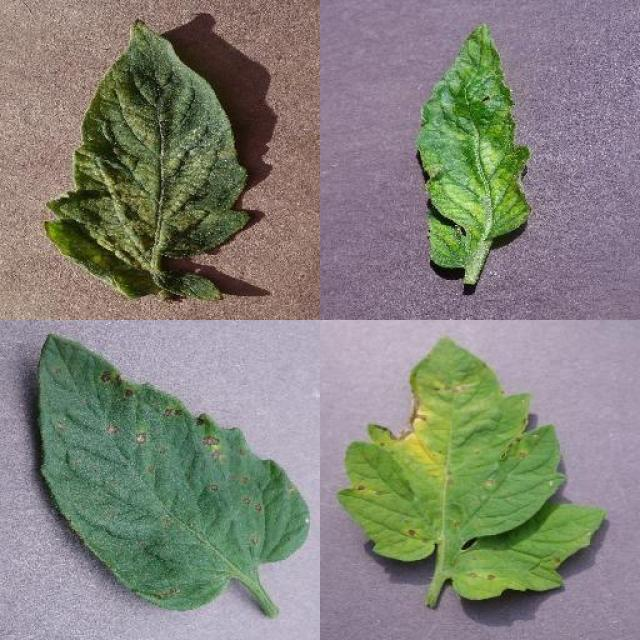Septoria: (39, 332, 312, 612), (340, 336, 606, 602)
